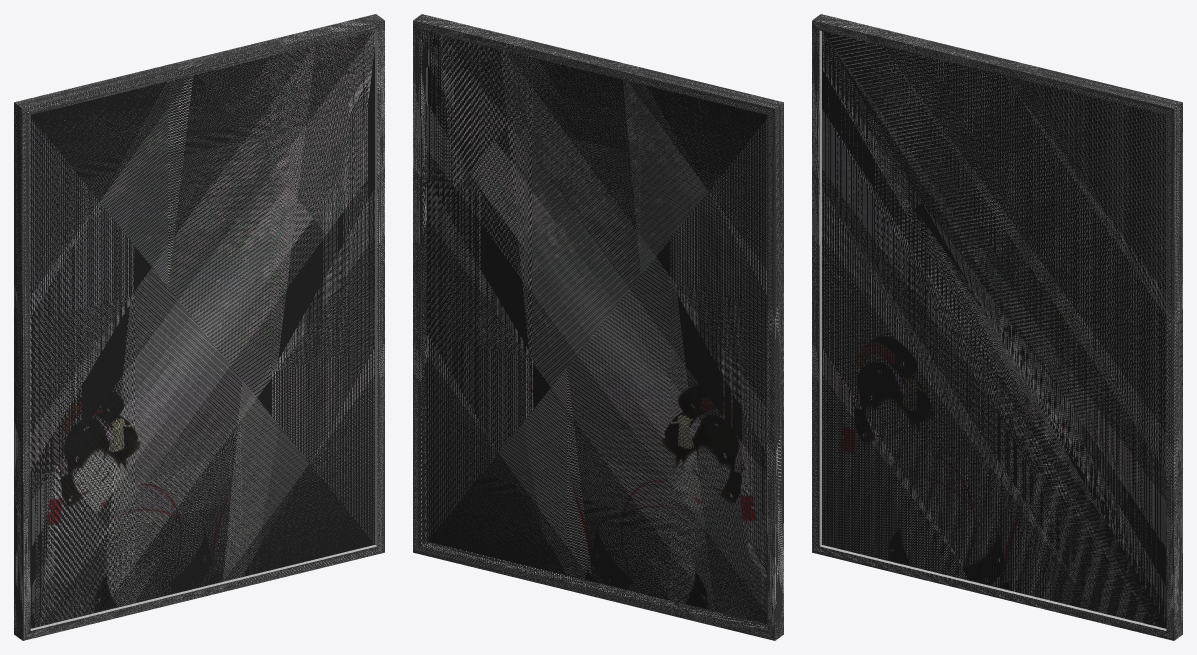
The model's file is Sayumi_s Picture frame 1.dae.
The picture shows the model from 3 angles, left to right: view 1: azimuth 30°, elevation 25°; view 2: azimuth 150°, elevation 25°; view 3: azimuth 330°, elevation 25°; orthographic projection.
Visible parts, largest first — view 1: SketchUp (×3); view 2: SketchUp (×3); view 3: SketchUp (×3).
Part boxes in pixels (left/top/right/bottom): SketchUp (×3): left=14, top=14, right=384, bottom=640; SketchUp (×3): left=413, top=14, right=783, bottom=640; SketchUp (×3): left=812, top=14, right=1182, bottom=640.
Size of the model in its own units: 23.5 by 1 by 33.
